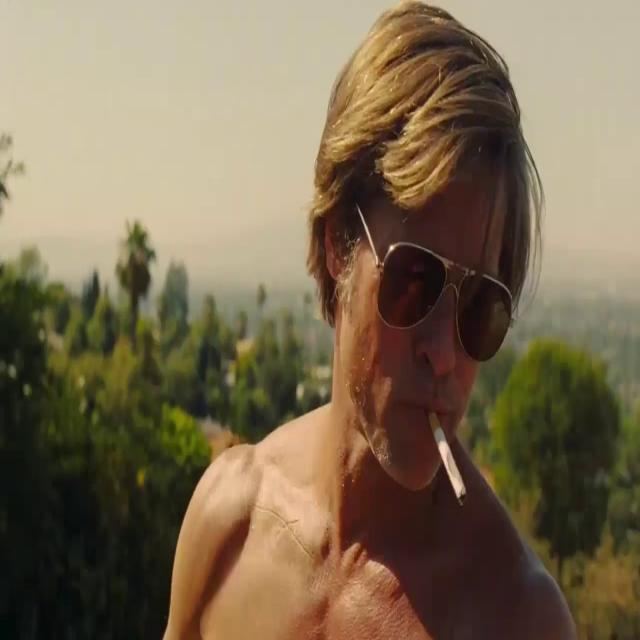Smooking: (426, 408, 471, 528)
